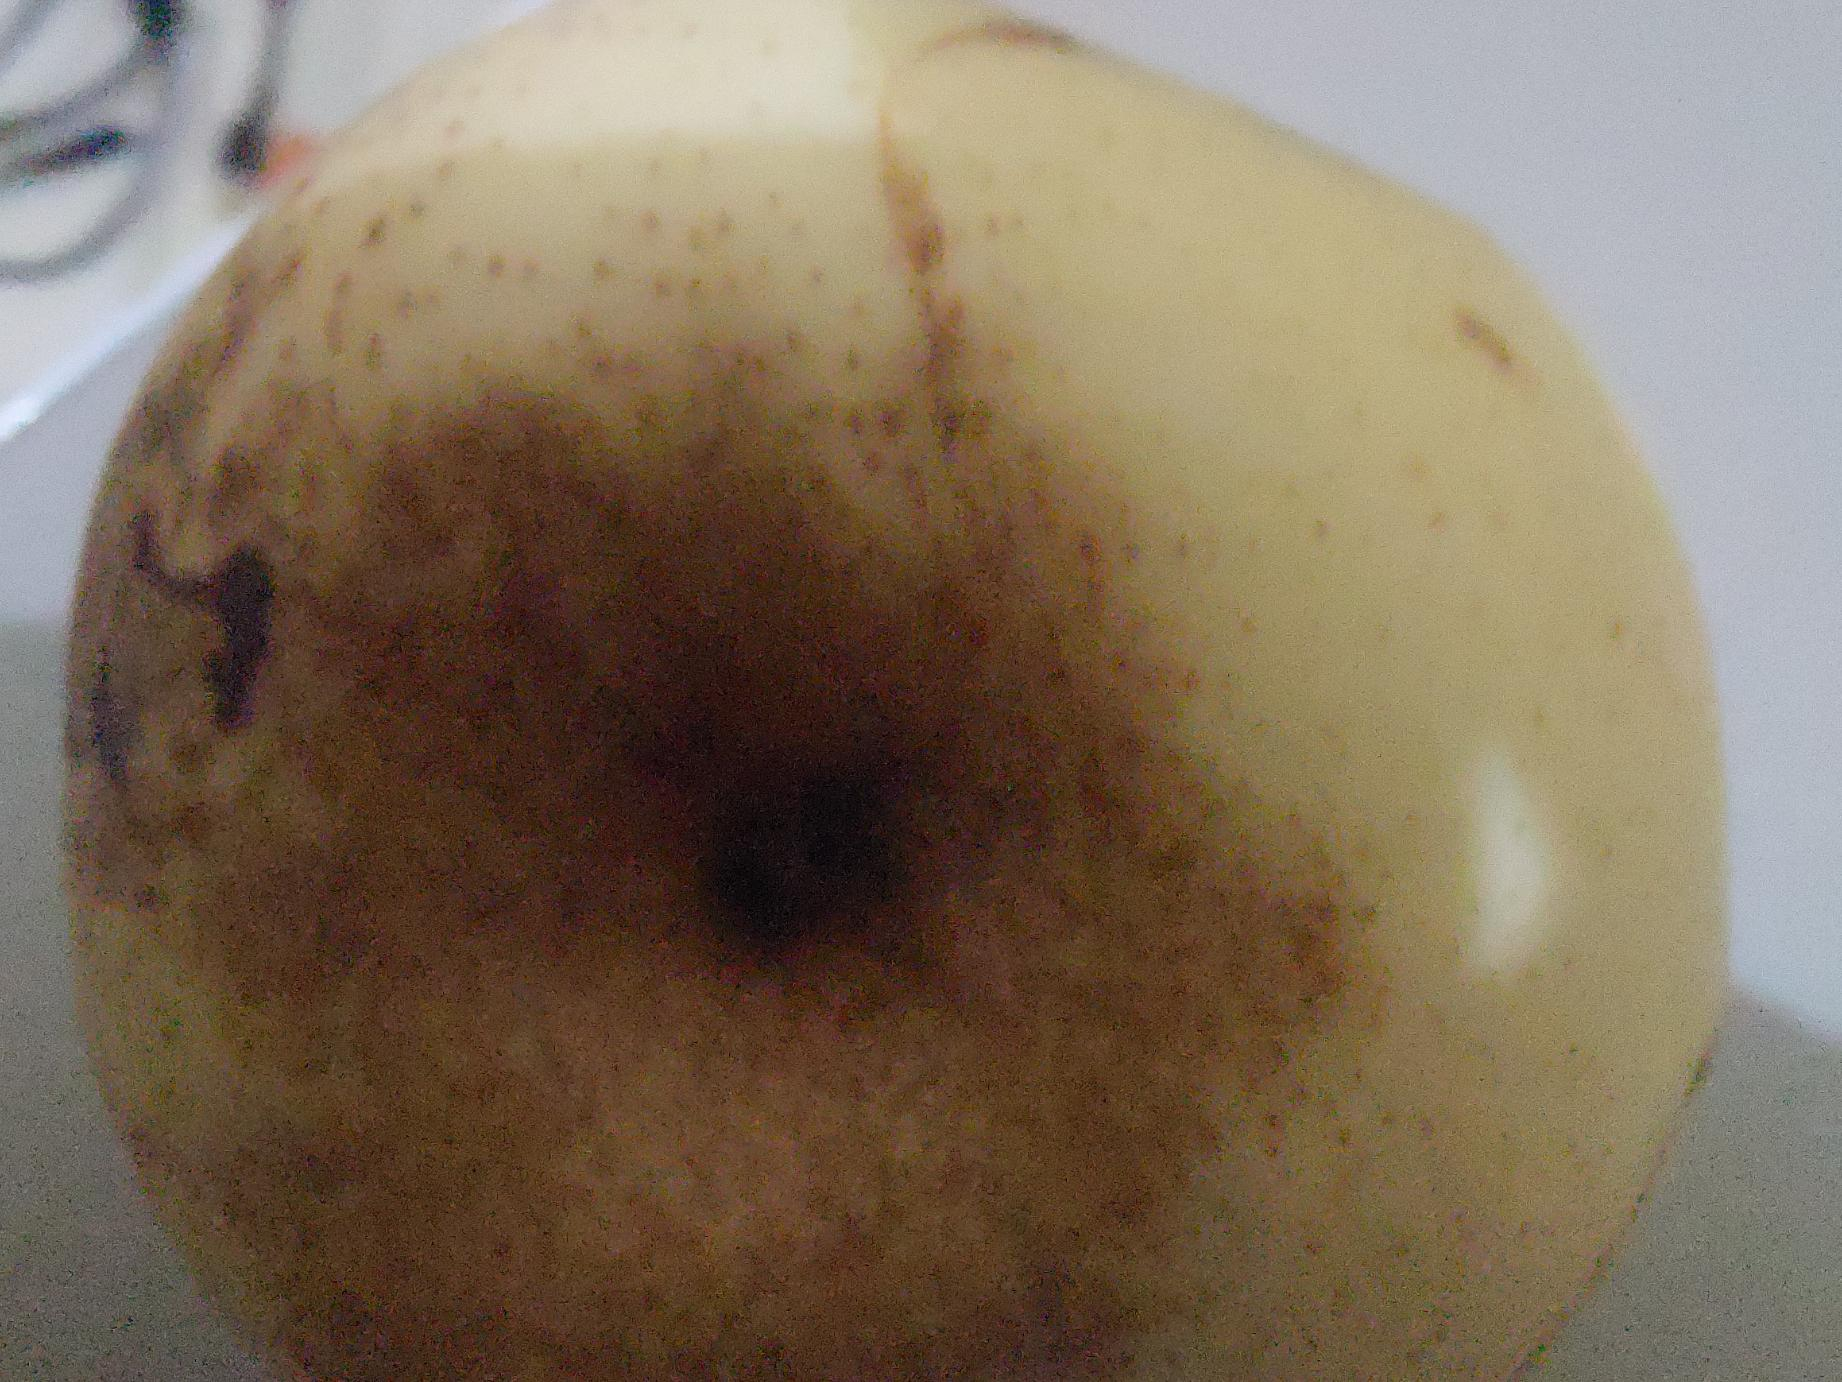Bad Pear: (39, 0, 1767, 1382)
